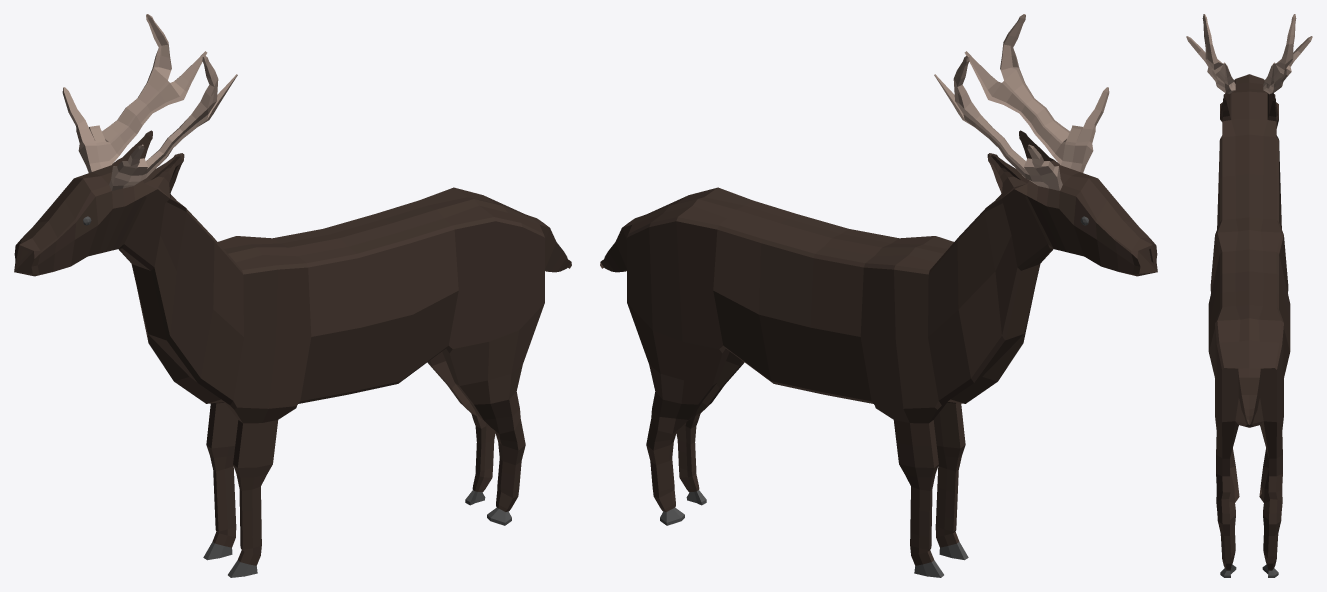
The model's file is visayanspotteddeerin.fbx.
The picture shows the model from 3 angles, left to right: view 1: azimuth 30°, elevation 25°; view 2: azimuth 150°, elevation 25°; view 3: azimuth 270°, elevation 25°; orthographic projection. The views are drawn at different scales.
Visible parts, largest first — view 1: Plane; view 2: Plane; view 3: Plane.
Part boxes in pixels (x1=…): Plane: x1=14, y1=14, x2=571, y2=577; Plane: x1=600, y1=14, x2=1157, y2=577; Plane: x1=1186, y1=14, x2=1312, y2=577.
Size of the model in its own units: 368 by 350 by 91.02.
